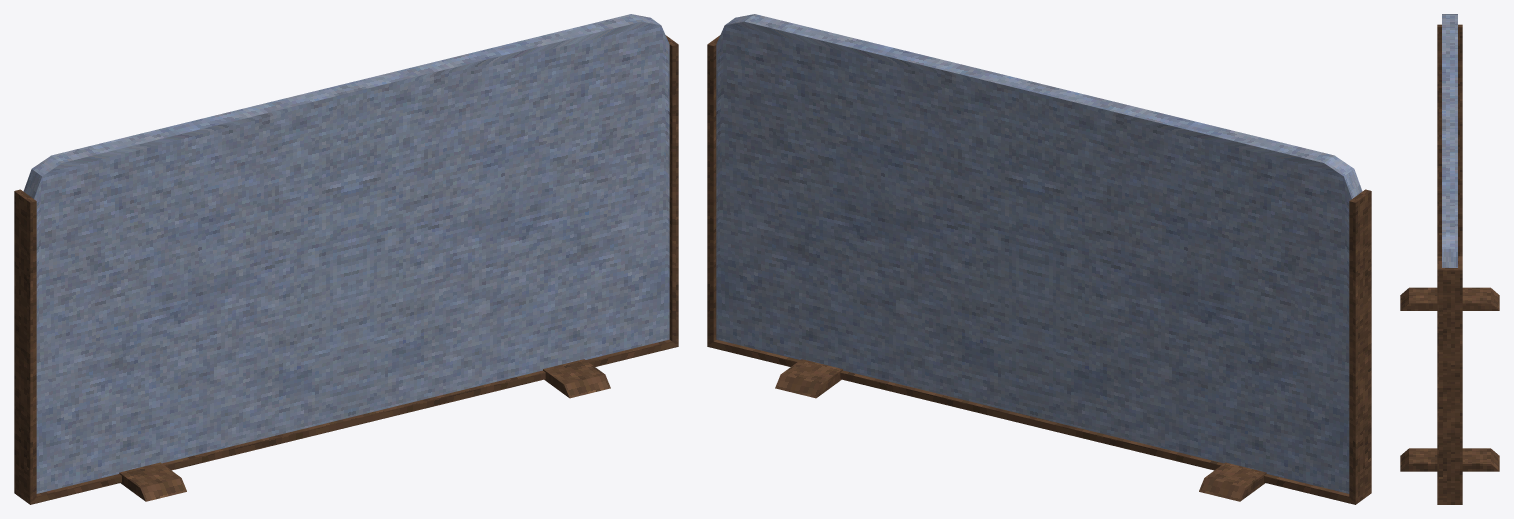
The model's file is divider_wood_blue_low.glb.
3 renders of one model, left to right at view 1: azimuth 30°, elevation 25°; view 2: azimuth 150°, elevation 25°; view 3: azimuth 270°, elevation 25°, orthographic. The views are drawn at different scales.
Visible parts, largest first — view 1: divider_wood_blue_low; view 2: divider_wood_blue_low; view 3: divider_wood_blue_low.
Part boxes in pixels (<box>): divider_wood_blue_low: <box>14,14,678,504</box>; divider_wood_blue_low: <box>707,14,1371,504</box>; divider_wood_blue_low: <box>1400,14,1499,504</box>.
Size of the model in its own units: 3.06 by 1.5 by 0.523.
Materials: 1 (1 with a texture image).
